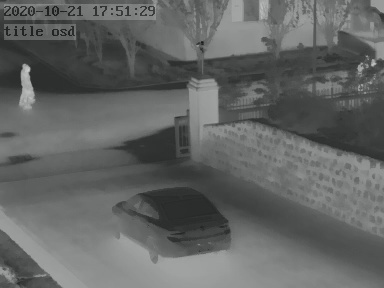person: (17, 58, 37, 108)
vehicle: (115, 184, 230, 260)
